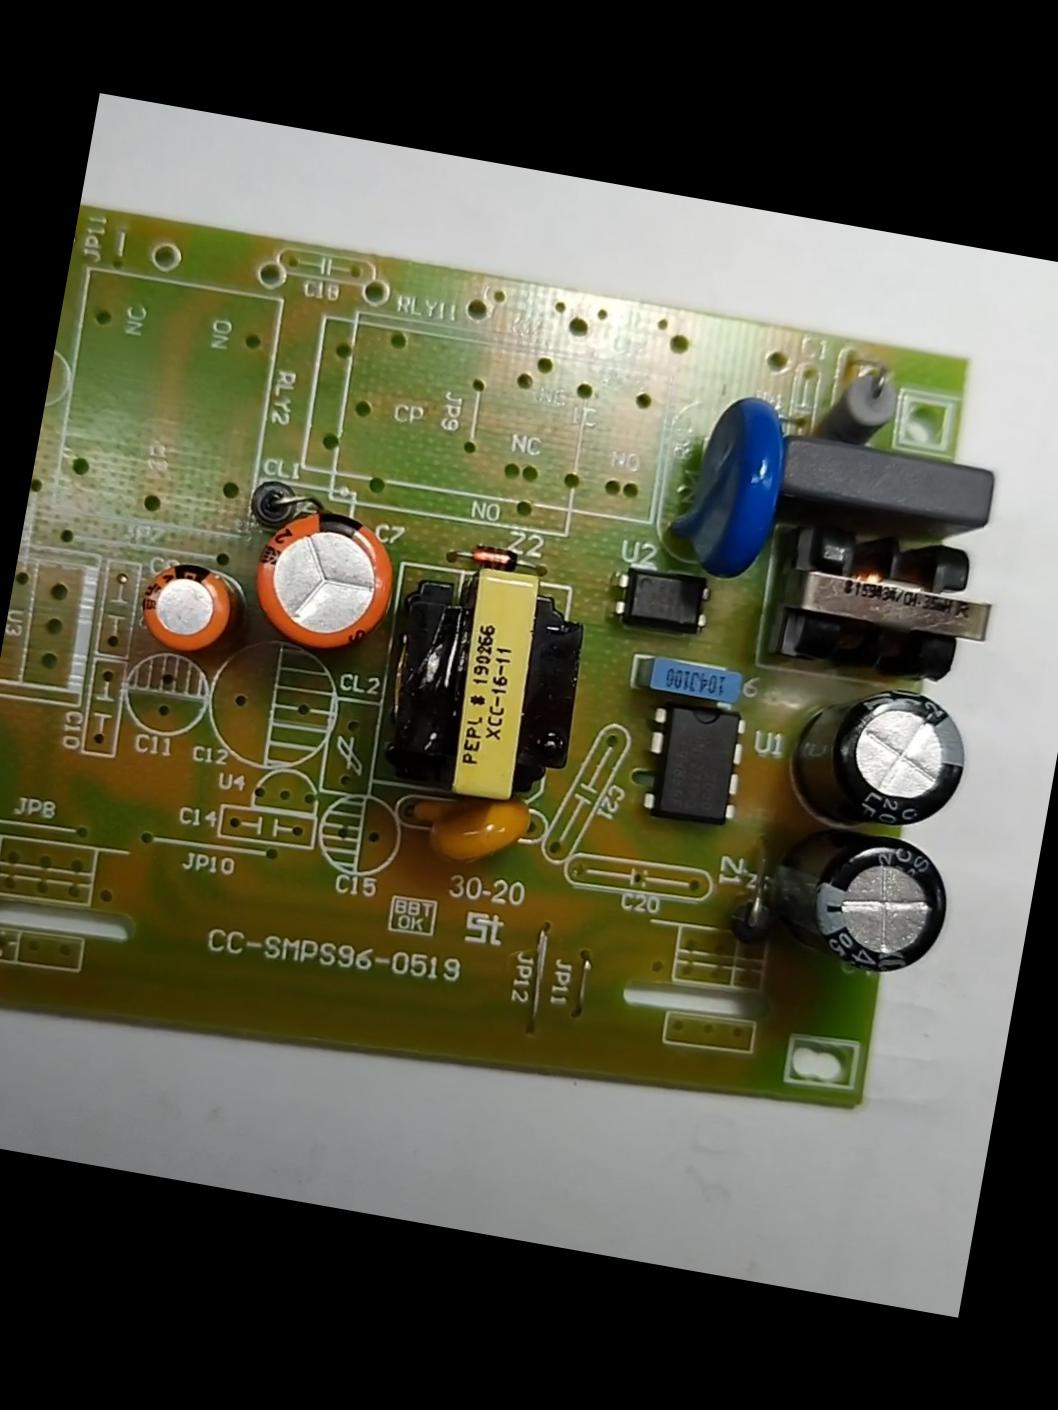Cap1: (248, 500, 402, 656)
Cap2: (139, 560, 238, 657)
Cap3: (780, 670, 979, 844)
Cap4: (765, 817, 961, 982)
MOSFET: (635, 698, 756, 832)
Mov: (659, 383, 797, 584)
Resistor: (810, 356, 901, 447)
Transformer: (377, 548, 598, 814), (769, 506, 1008, 687)
